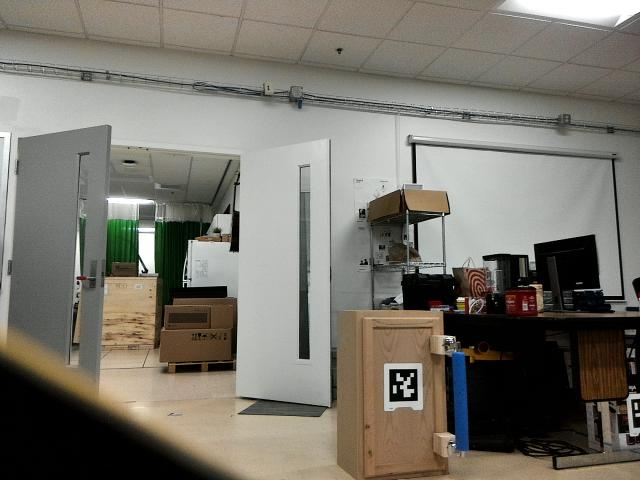noodle_handle: (449, 345, 471, 456)
